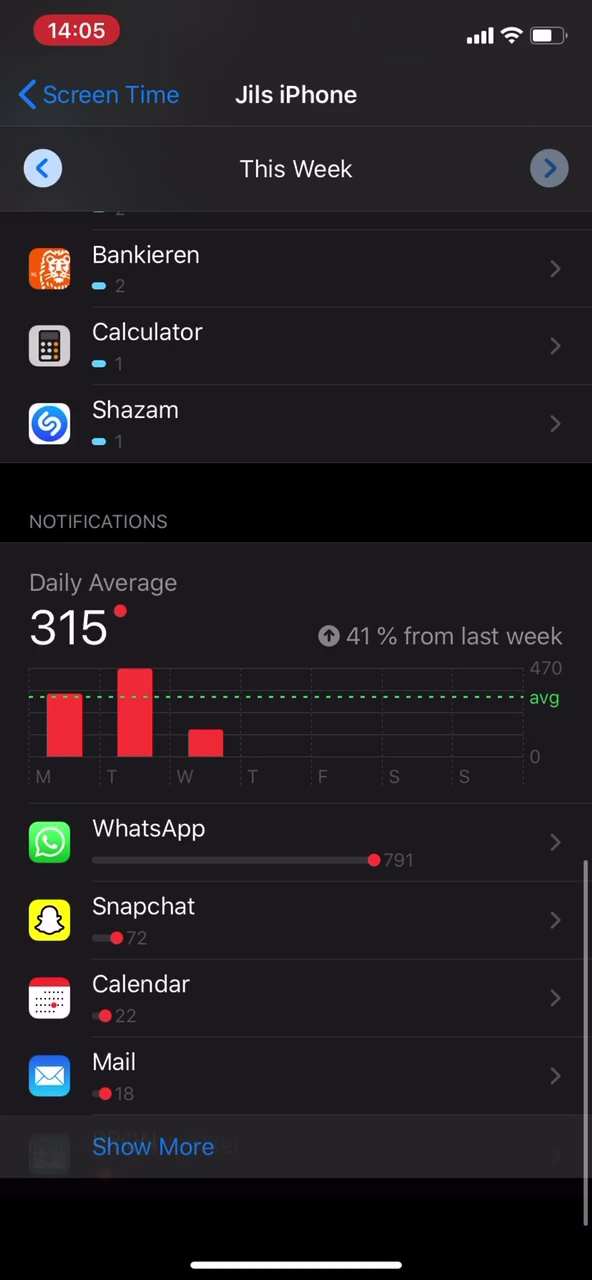not_app: (23, 810, 429, 877), (20, 894, 295, 955), (12, 1050, 237, 1121), (22, 964, 206, 1028)
not_over: (22, 500, 226, 657)
pick_app: (25, 222, 276, 299), (22, 394, 229, 461), (26, 319, 262, 375)
week: (219, 144, 368, 191)
